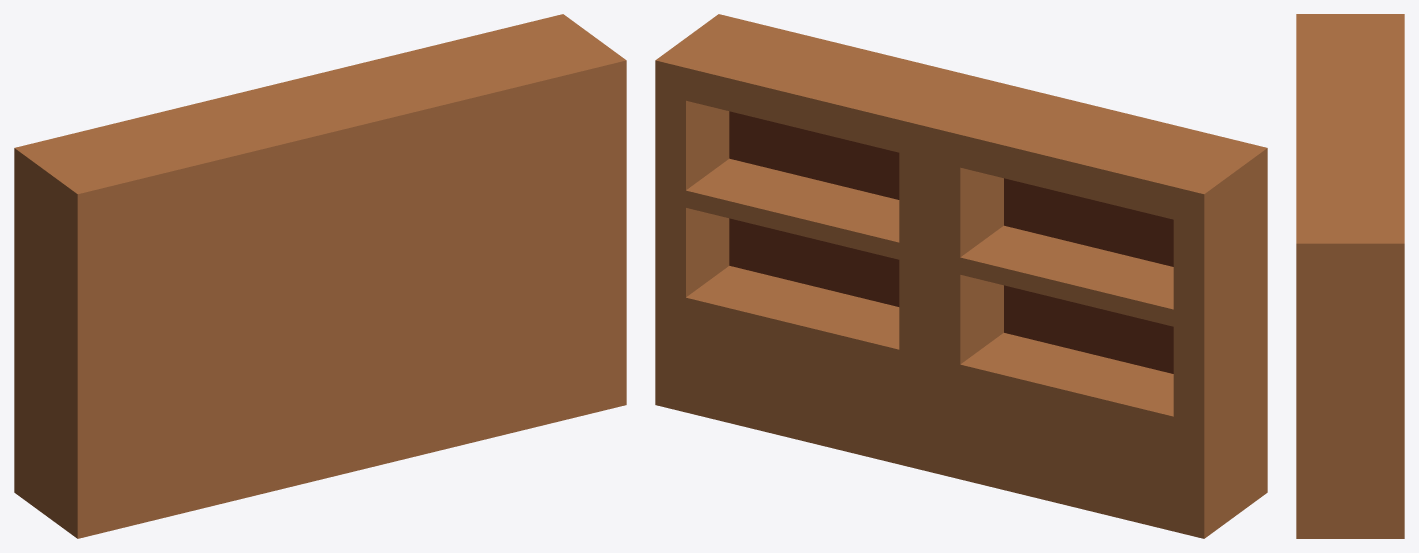
Rendered from Closet.fbx.
The picture shows the model from 3 angles, left to right: view 1: azimuth 30°, elevation 25°; view 2: azimuth 150°, elevation 25°; view 3: azimuth 270°, elevation 25°; orthographic projection. The views are drawn at different scales.
Visible parts, largest first — view 1: Cube; view 2: Cube; view 3: Cube.
Boxes of the visible parts, x1,y1,x2,y2 form: Cube: [14, 14, 626, 538]; Cube: [655, 14, 1267, 538]; Cube: [1296, 14, 1404, 538].
Size of the model in its own units: 1000 by 600 by 200.
